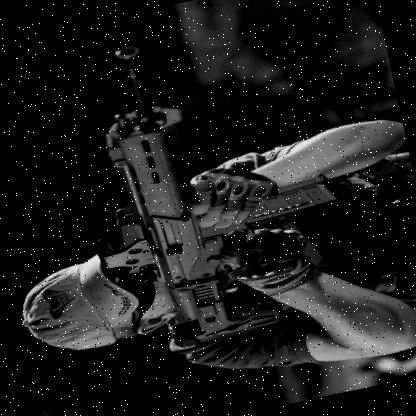rifle: (84, 9, 348, 357)
